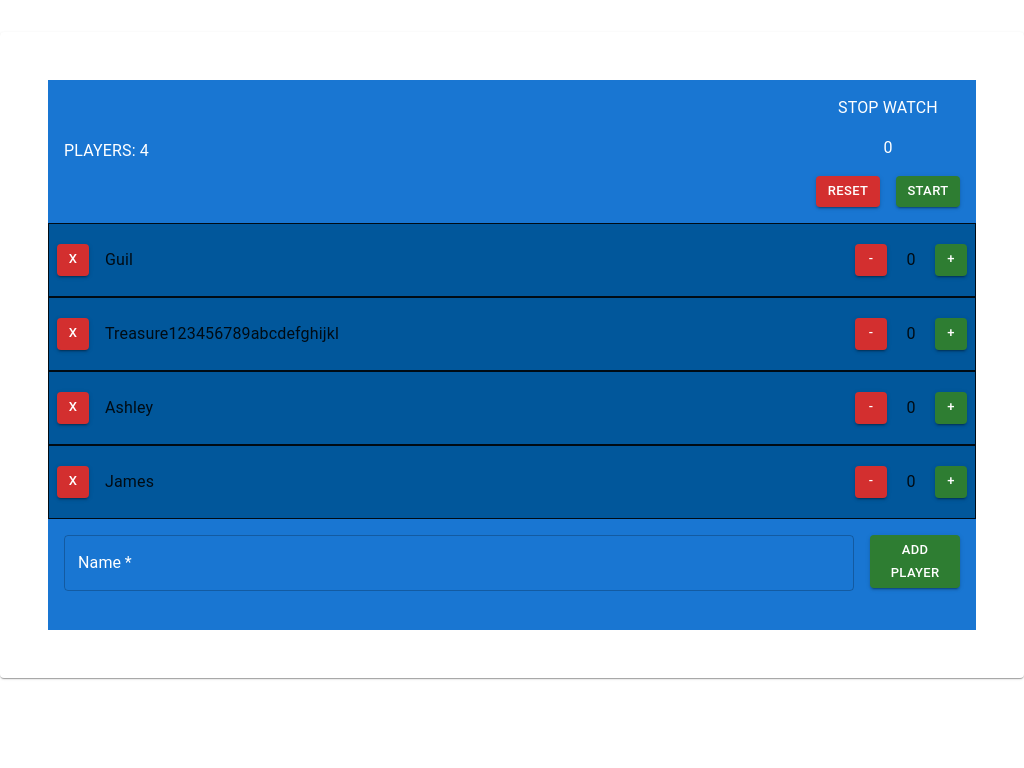
test Scoreboard › clicking the remove button removes a player
Click the button "X" next to "Guil": (73,260) [57, 244, 89, 276]
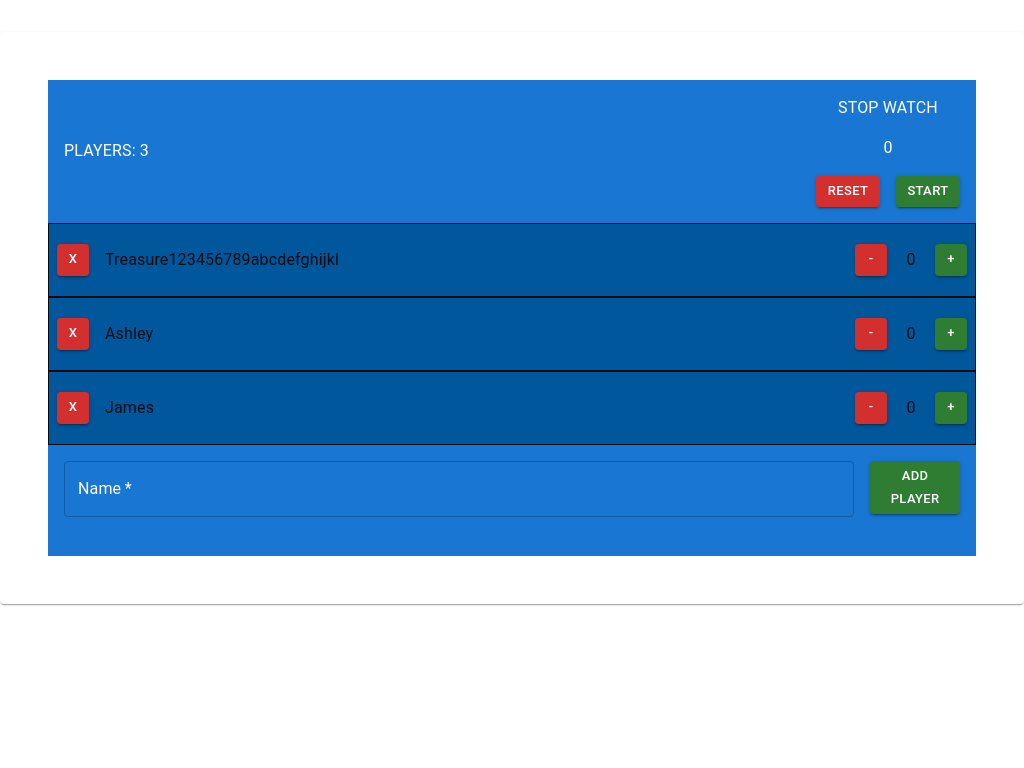
Check: the number of buttons "X" is 3, box [57, 244, 89, 276]; [57, 318, 89, 350]; [57, 392, 89, 424]
